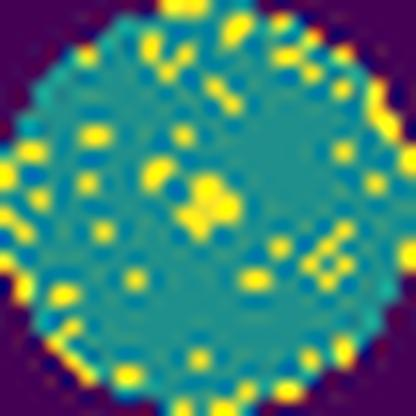Center: (176, 172, 241, 242)
